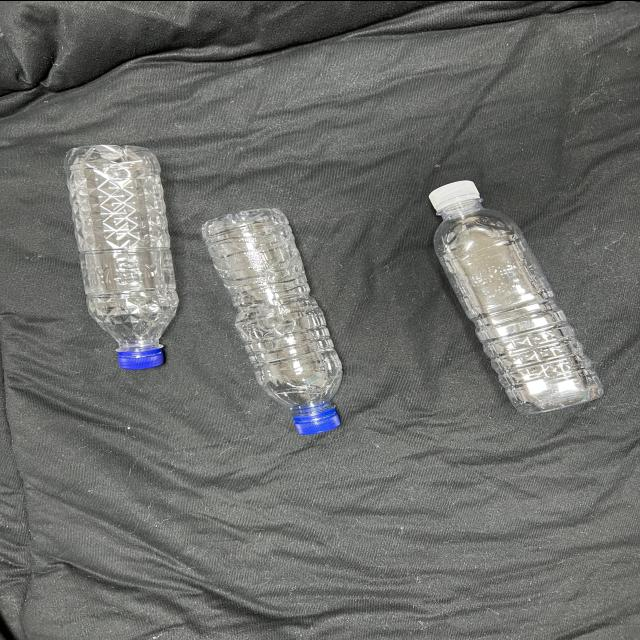寶特瓶: (403, 166, 615, 419), (185, 191, 373, 454), (56, 134, 189, 377)
